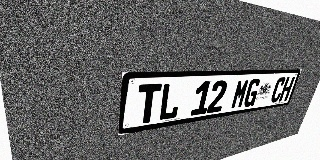1: (190, 81, 213, 116)
2: (207, 80, 228, 113)
C: (269, 77, 287, 103)
G: (242, 78, 262, 108)
H: (278, 77, 295, 102)
L: (158, 82, 183, 121)
M: (230, 79, 250, 110)
T: (135, 83, 162, 125)
